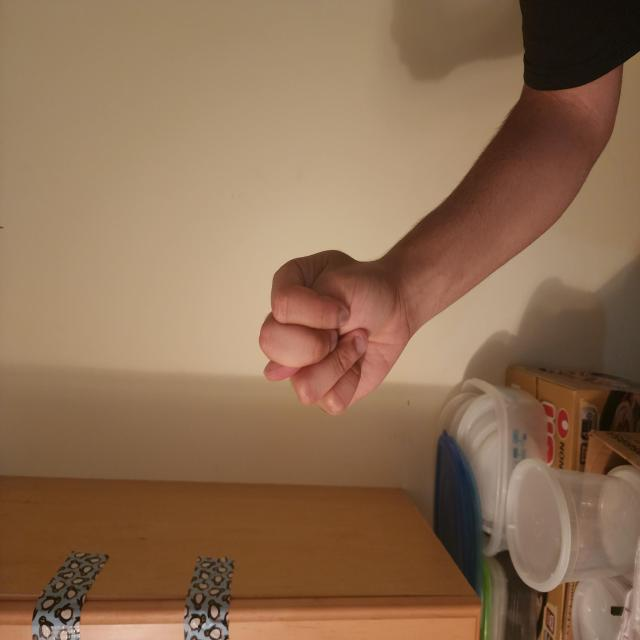N: (163, 338, 317, 548)
